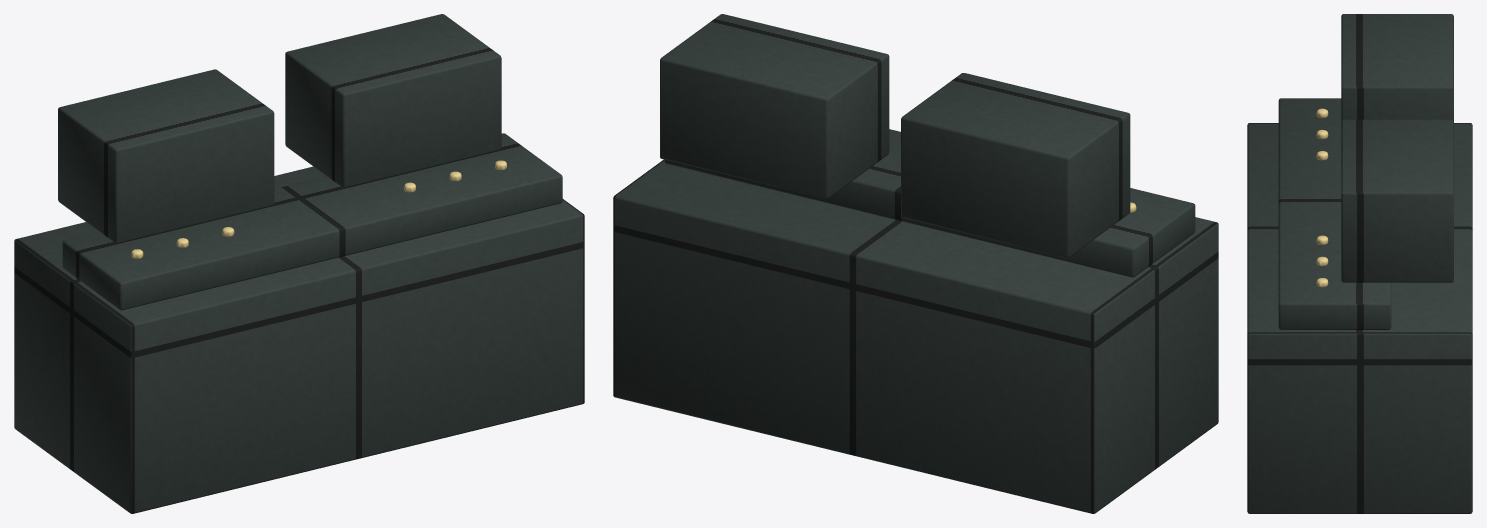
The model's file is WK_FURN_CONSOLE_A_01.glb.
The picture shows the model from 3 angles, left to right: view 1: azimuth 30°, elevation 25°; view 2: azimuth 150°, elevation 25°; view 3: azimuth 270°, elevation 25°; orthographic projection. The views are drawn at different scales.
Parts seen in each view (by area): view 1: WK_FURN_CONSOLE_A_01; view 2: WK_FURN_CONSOLE_A_01; view 3: WK_FURN_CONSOLE_A_01.
Boxes of the visible parts, x1=… form: WK_FURN_CONSOLE_A_01: x1=14, y1=14, x2=584, y2=513; WK_FURN_CONSOLE_A_01: x1=613, y1=14, x2=1218, y2=513; WK_FURN_CONSOLE_A_01: x1=1247, y1=14, x2=1472, y2=513.
Size of the model in its own units: 2 by 1.35 by 0.9.
Materials: 3 (2 with a texture image).
